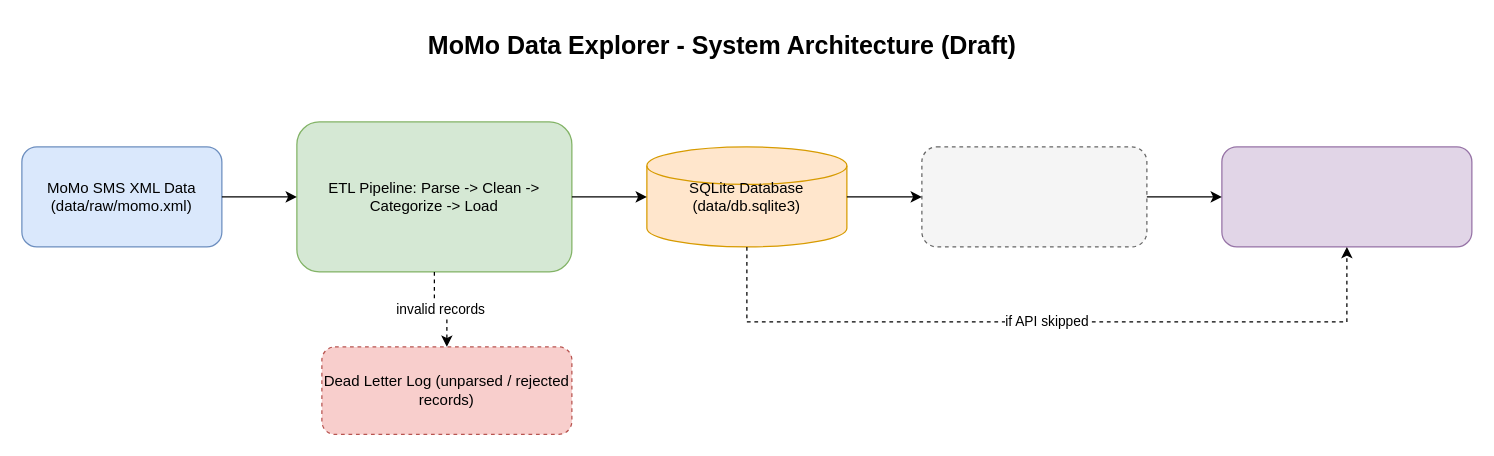
This 1494x456 diagram has some shape labels left out. The shapes that lost their labels are listed below. From the top down, each one's centre as x and y in pixels, then its label:
point 1034,196: API Layer (FastAPI) - optional/bonus
point 1346,196: Frontend Dashboard (index.html + chart_handler.js)
